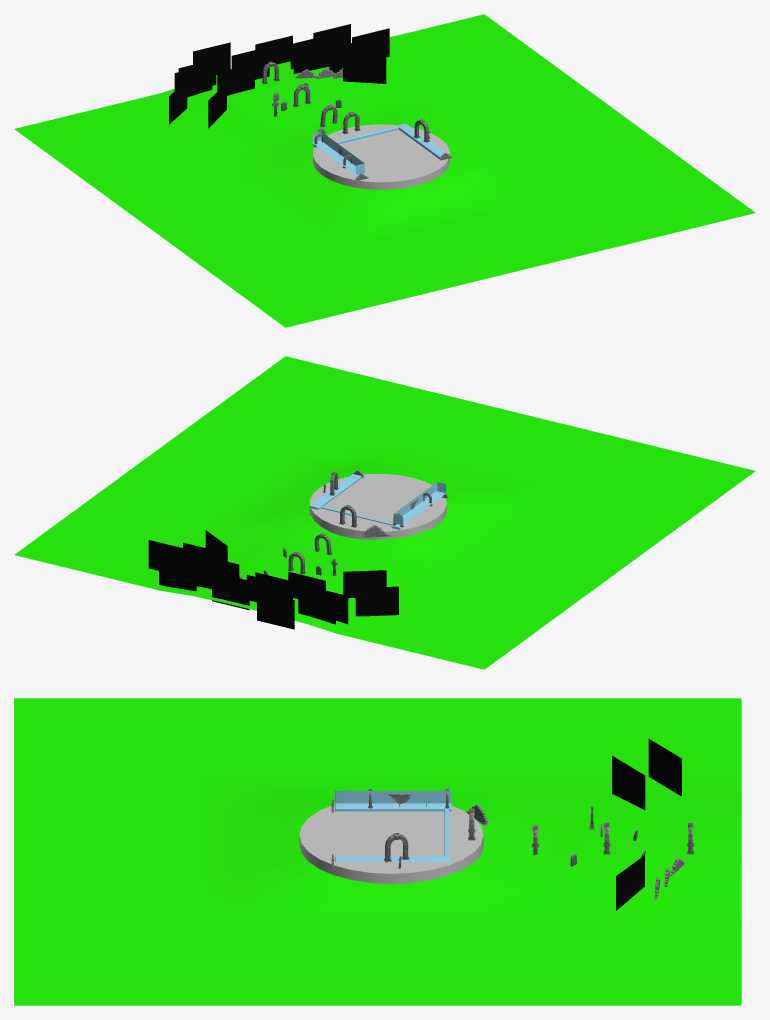
Rendered from GameScene_Graveyard.FBX.
3 renders of one model, top to bottom at view 1: azimuth 30°, elevation 25°; view 2: azimuth 150°, elevation 25°; view 3: azimuth 270°, elevation 25°, orthographic. The views are drawn at different scales.
Visible parts, largest first — view 1: CemetaryScene; view 2: CemetaryScene; view 3: CemetaryScene.
Part boxes in pixels (<box>): CemetaryScene: <box>14,14,755,327</box>; CemetaryScene: <box>14,356,755,669</box>; CemetaryScene: <box>14,698,741,1005</box>.
Bounding box in the file's own units: 1500 × 1530 × 125.
